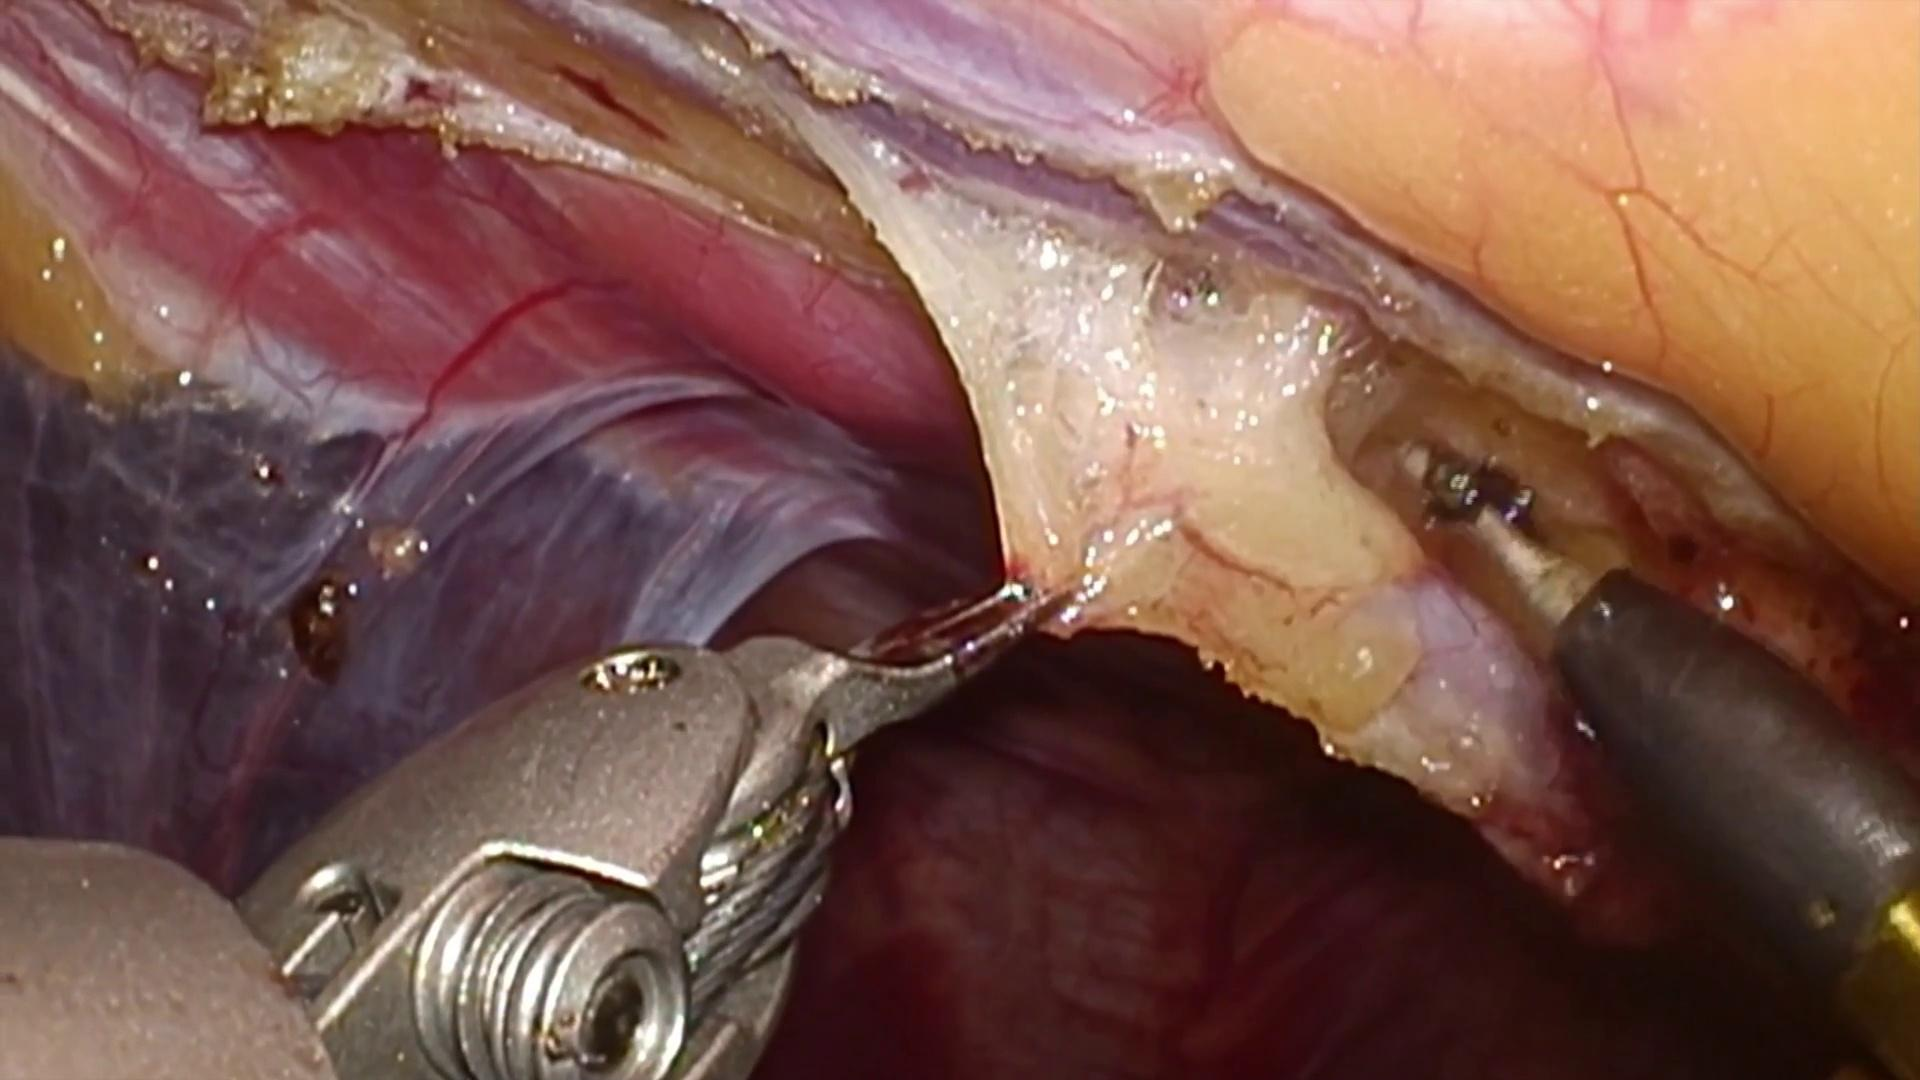Cautery_Spatula: (1375, 438, 1920, 1004)
Debakey: (732, 562, 1100, 778)
